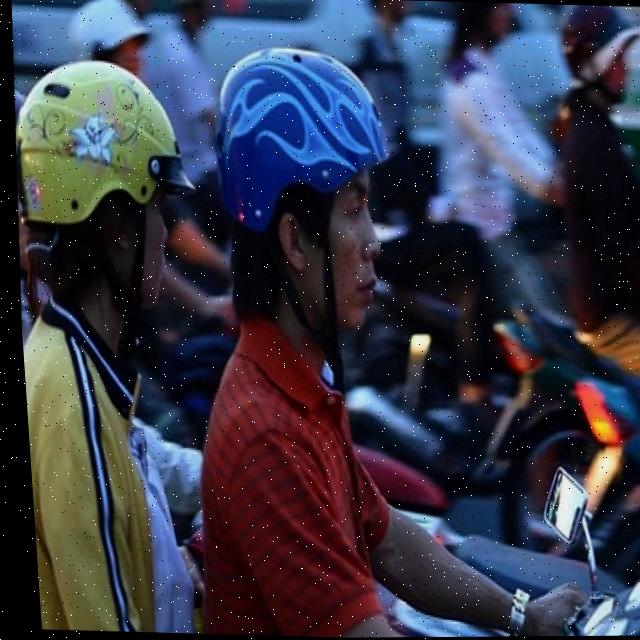motorcycle: (471, 286, 567, 545), (549, 344, 640, 571)
